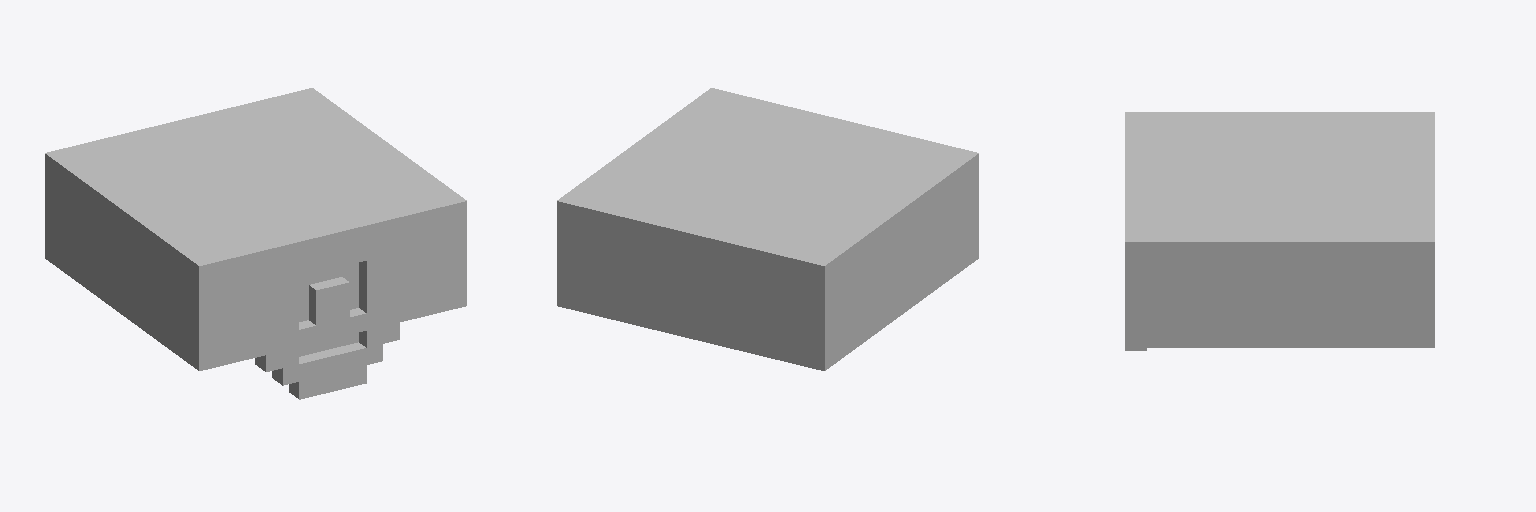
Rendered from botBoxTop.obj.
The picture shows the model from 3 angles: view 1: azimuth 30°, elevation 25°; view 2: azimuth 150°, elevation 25°; view 3: azimuth 270°, elevation 25°; orthographic projection.
Bounding box in the file's own units: 1.99 × 1.12 × 1.99.